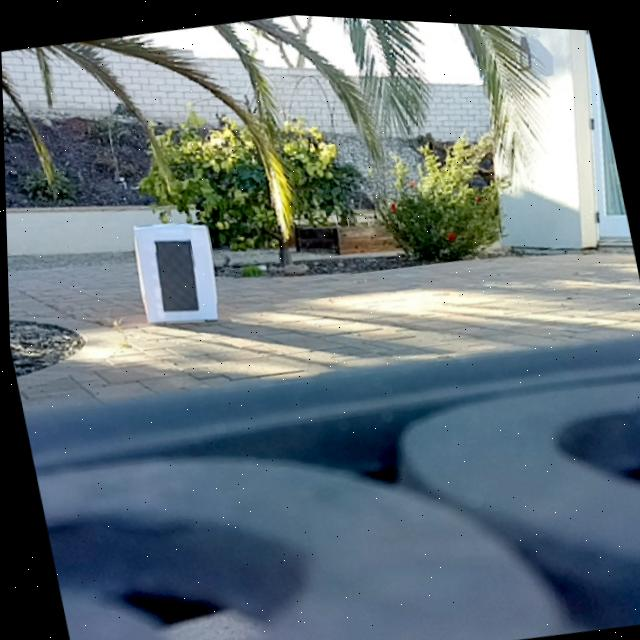led: (151, 229, 198, 320)
